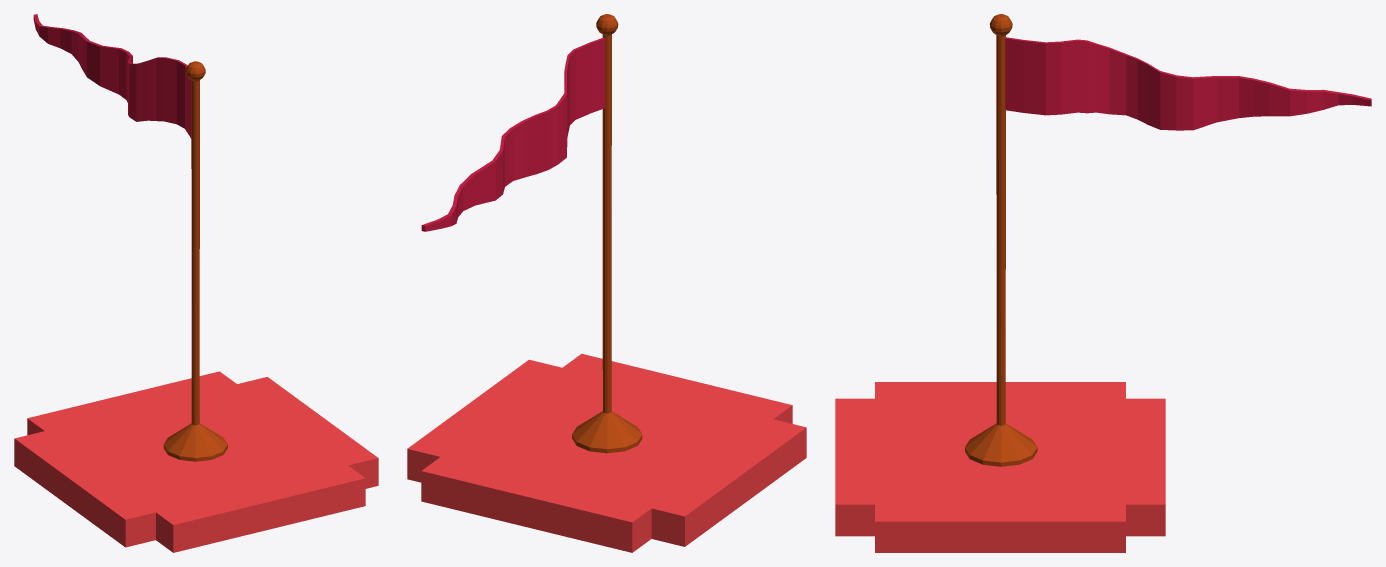
Rendered from endModel.fbx.
3 views of the same model, side by side, from view 1: azimuth 30°, elevation 25°; view 2: azimuth 150°, elevation 25°; view 3: azimuth 270°, elevation 25° (orthographic). The views are drawn at different scales.
Parts seen in each view (by area): view 1: endBase, endFlag, endPole; view 2: endBase, endFlag, endPole; view 3: endBase, endFlag, endPole.
Boxes of the visible parts, bbox=[...] form: endBase: bbox=[14, 371, 378, 552]; endFlag: bbox=[33, 14, 191, 138]; endPole: bbox=[163, 61, 227, 461]; endBase: bbox=[407, 353, 806, 552]; endFlag: bbox=[421, 37, 605, 231]; endPole: bbox=[572, 14, 642, 453]; endBase: bbox=[835, 382, 1165, 552]; endFlag: bbox=[1005, 37, 1371, 130]; endPole: bbox=[965, 14, 1037, 466].
Size of the model in its own units: 100 by 156 by 162.
